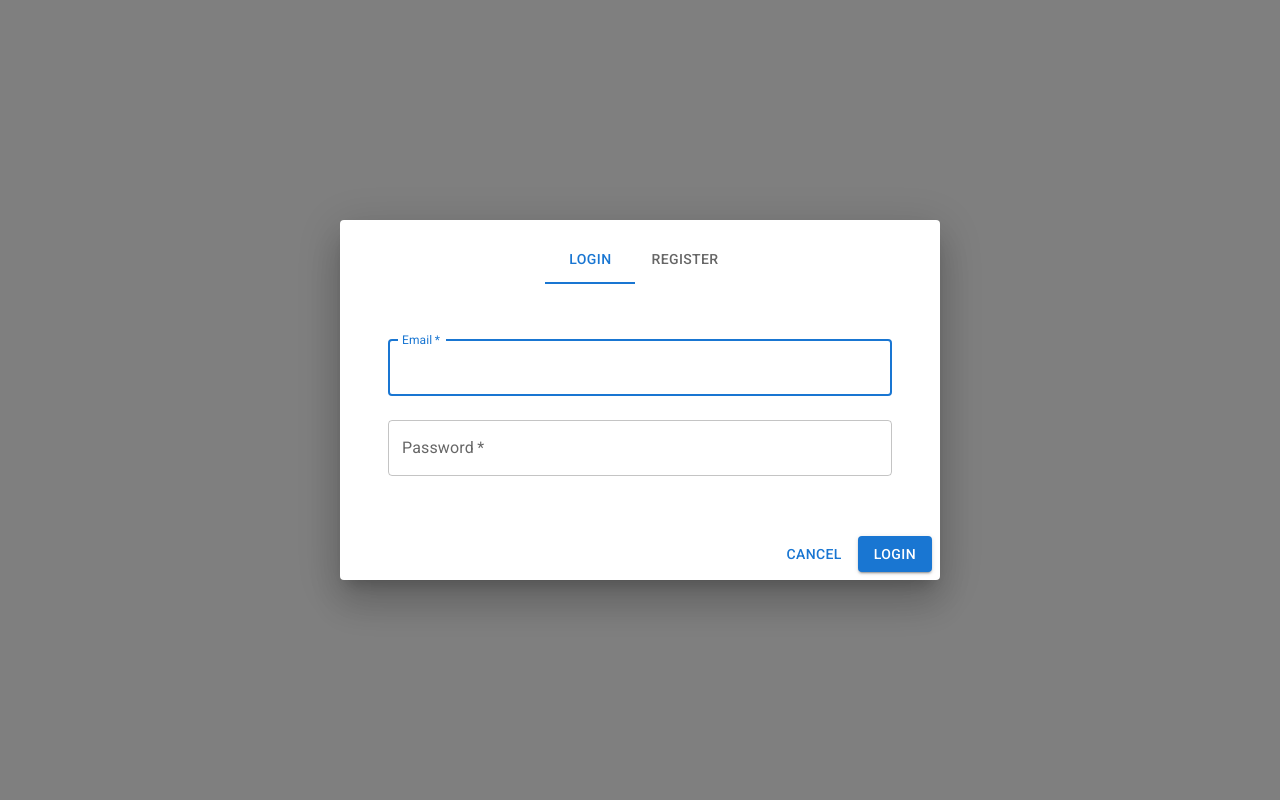
Test: AuthDialog › should switch to register tab when clicked
Step 1. Click the tab "Register" → (685, 260), box top-left (635, 236), bottom-right (735, 284)
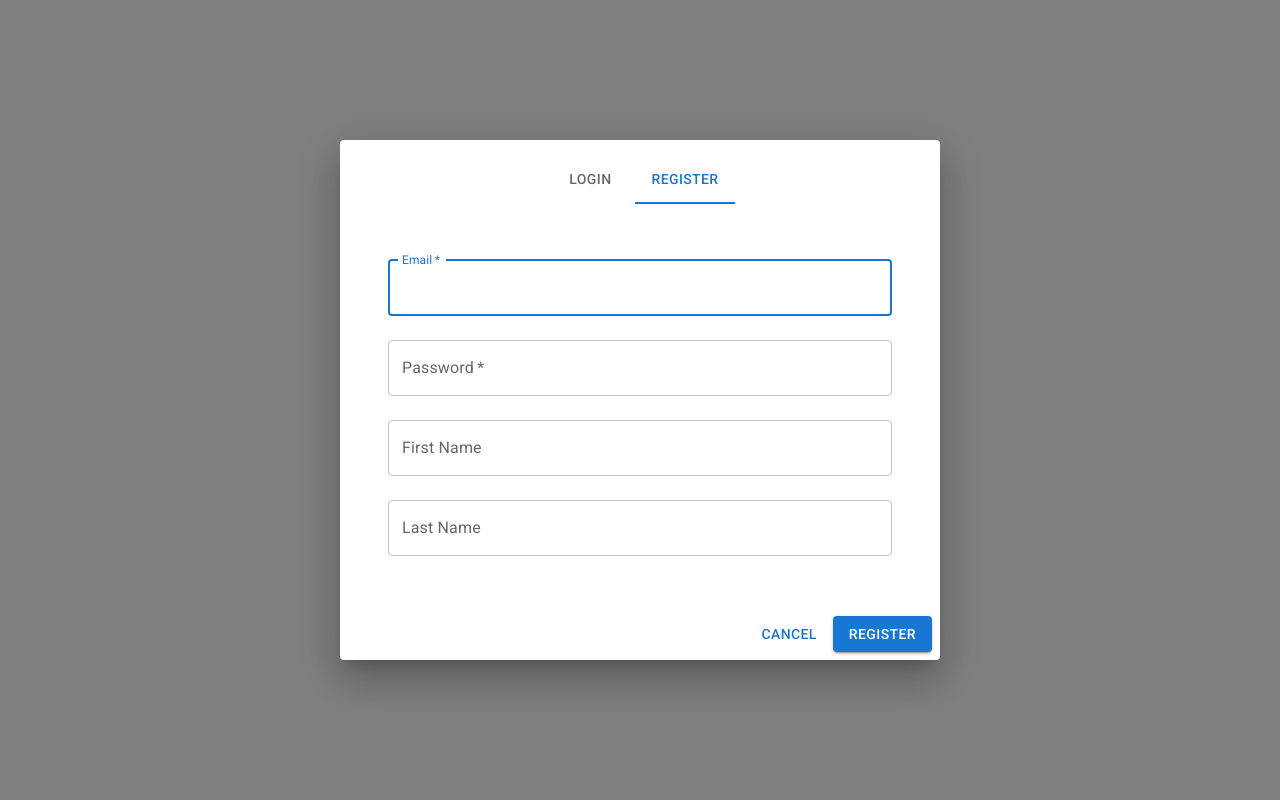
Check: the field labelled "First Name" is shown, box top-left (388, 420), bottom-right (892, 476)
Check: the field labelled "Last Name" is shown, box top-left (388, 500), bottom-right (892, 556)
